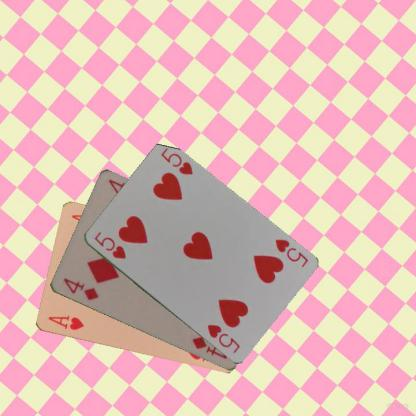4d: (60, 275, 99, 302)
5h: (272, 236, 309, 269), (91, 228, 127, 260)
Ah: (45, 313, 85, 332)
